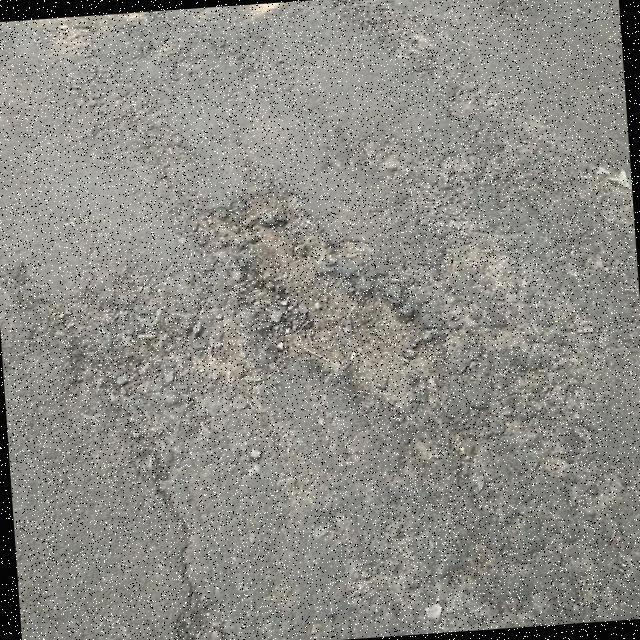Pothole: (198, 184, 437, 414), (71, 304, 231, 480)
